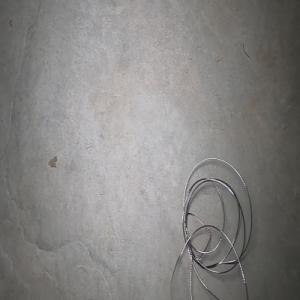Wire: (170, 157, 252, 300)
